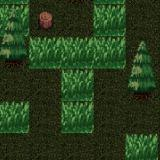Obstacle: (126, 68, 158, 102), (29, 4, 62, 36), (0, 37, 28, 68)
Slow: (62, 36, 94, 134), (94, 0, 126, 68), (28, 36, 62, 68), (0, 0, 29, 36), (0, 100, 30, 132), (125, 134, 158, 160)
